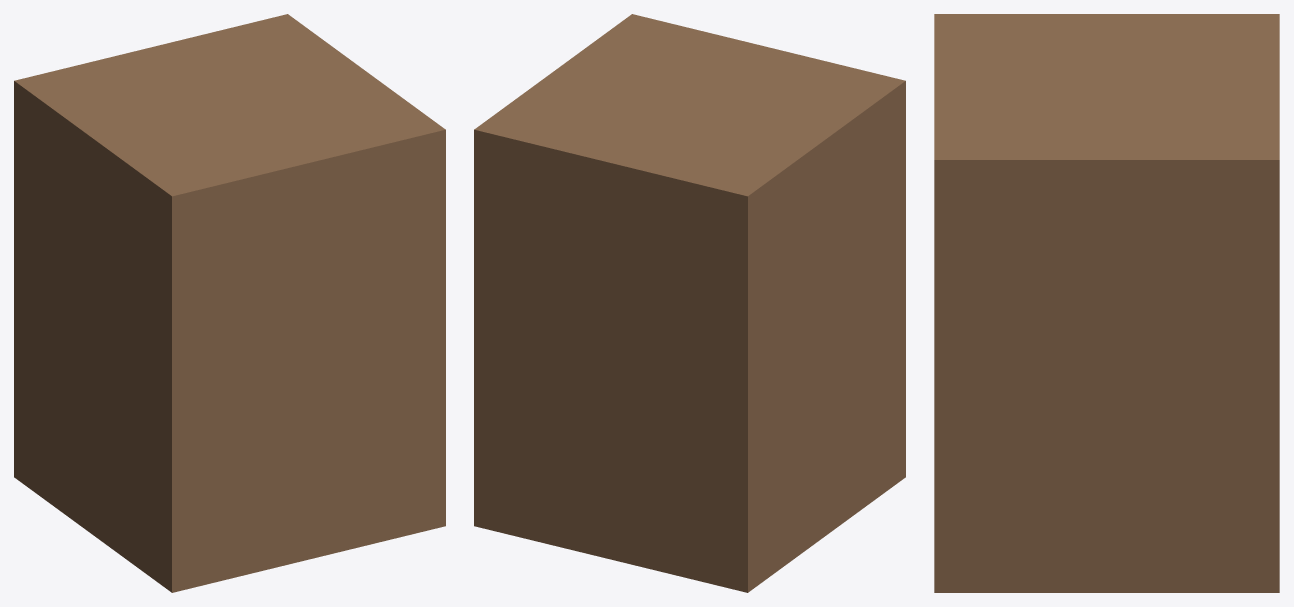
Rendered from bardo_coxa.glb.
The picture shows the model from 3 angles, left to right: view 1: azimuth 30°, elevation 25°; view 2: azimuth 150°, elevation 25°; view 3: azimuth 270°, elevation 25°; orthographic projection. The views are drawn at different scales.
Visible parts, largest first — view 1: bardo_coxa; view 2: bardo_coxa; view 3: bardo_coxa.
Boxes of the visible parts, bbox=[...] form: bardo_coxa: bbox=[14, 14, 445, 592]; bardo_coxa: bbox=[474, 14, 905, 592]; bardo_coxa: bbox=[934, 14, 1279, 592].
Size of the model in its own units: 0.26 by 0.36 by 0.26.
